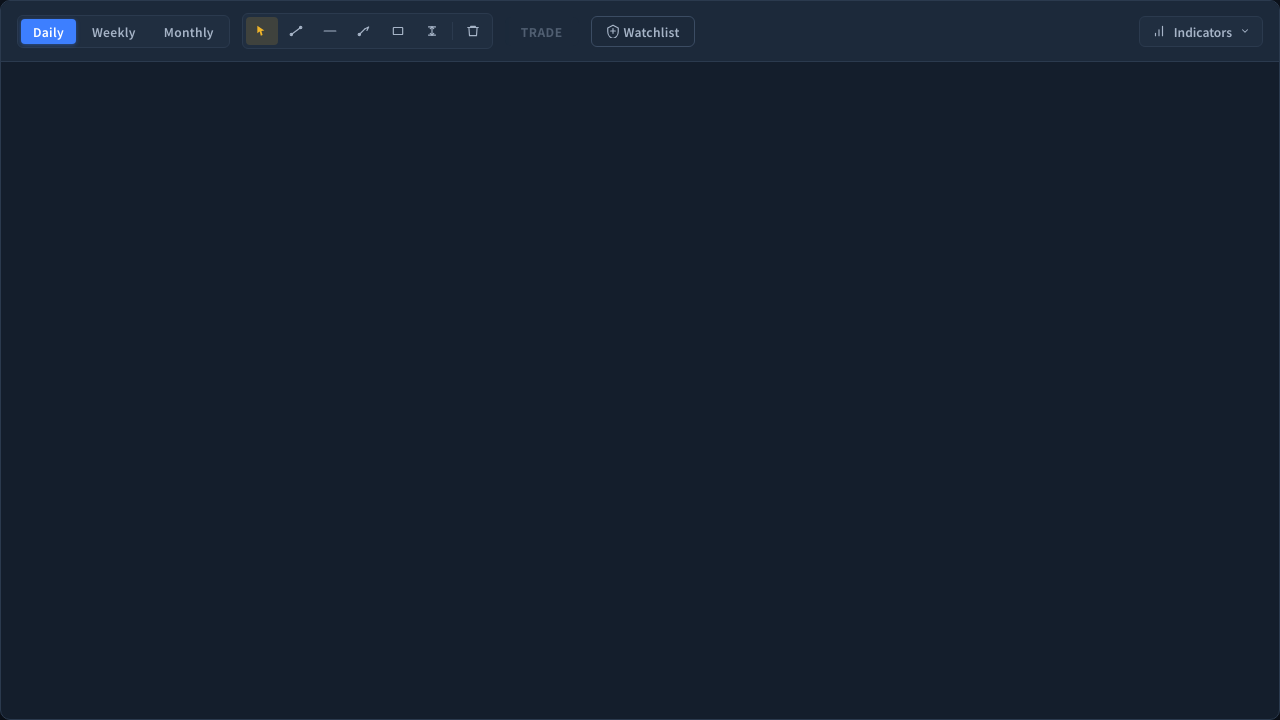
Test: StockChart indicators › checks moving average indicators by default
Click the button "Indicators": click(1201, 31) top-left (1139, 16), bottom-right (1263, 46)
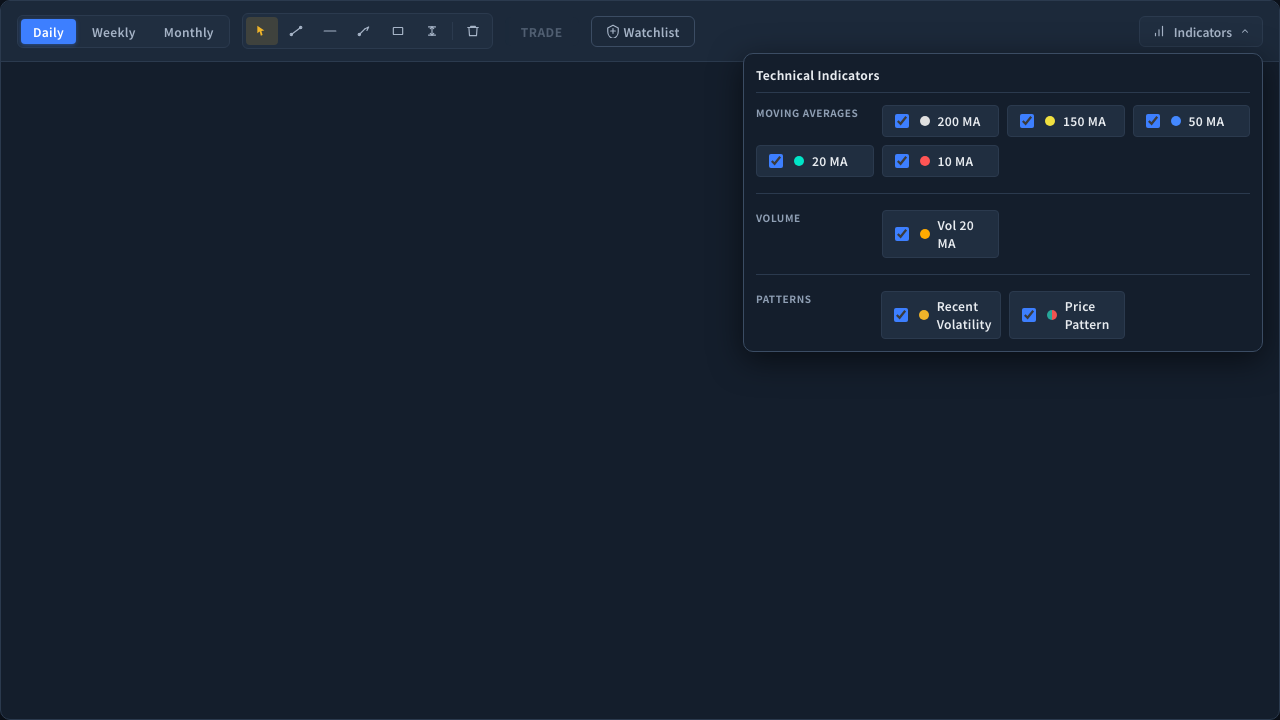
Now the checkbox labelled "200 MA" is checked, box top-left (894, 114), bottom-right (908, 128)
